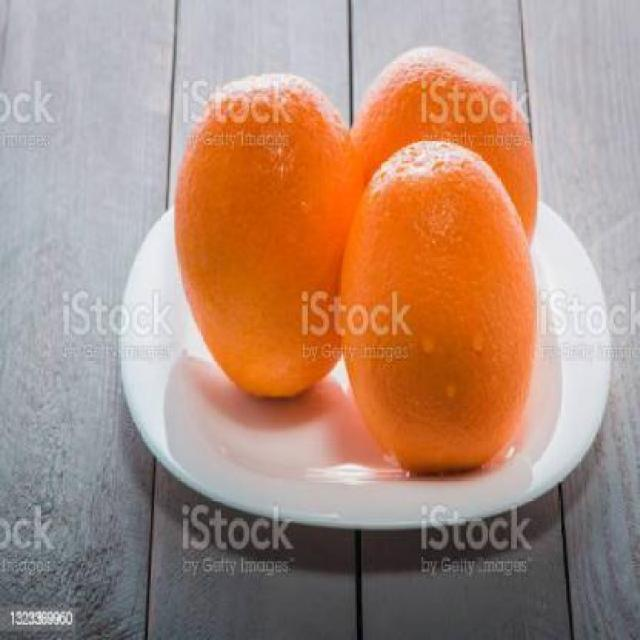Jeruk Sudah Matang: (332, 137, 536, 477), (175, 75, 372, 400), (339, 42, 538, 315)
